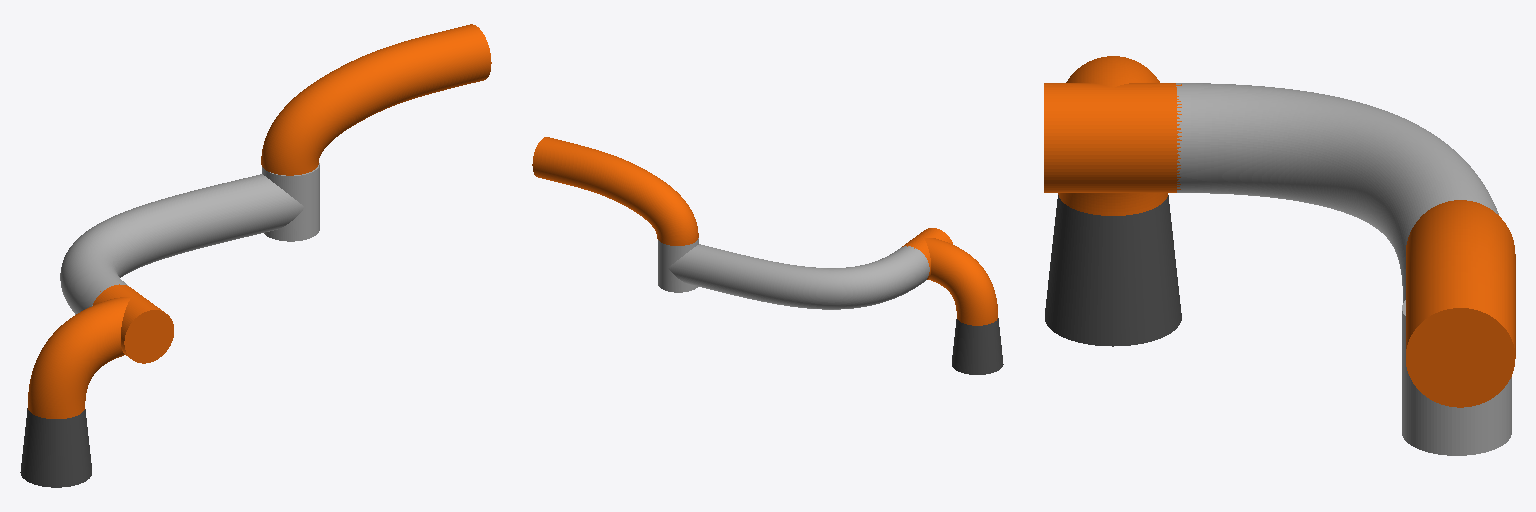
URDF robot description (custom_3r):
<?xml version="1.0" encoding="UTF-8"?>
<robot name="custom_3r">
  
  <!--
  Initial assembly generated from the supplied STL meshes and joint data.
  
  Assumption for this first version:
  - Each STL is expressed in its corresponding link frame.
  - Therefore visual/collision mesh origins are xyz="0 0 0", rpy="0 0 0".
  - The joint origins below are used exactly as supplied and are relative
  to their parent link frames, as required by URDF.
  
  Units:
  - STL geometry appears to be in metres.
  - URDF distances are metres and angles are radians.
  -->
  
  <material name="color_1">
  <color rgba="0.35 0.35 0.35 1.0"/>
  </material>
  <material name="color_2">
  <color rgba="0.95 0.45 0.08 1.0"/>
  </material>
  <material name="color_1">
  <color rgba="0.20 0.22 0.23 1.0"/>
  </material>
  
  <material name="color_2">
  <color rgba="0.05 0.42 0.43 1.0"/>
  </material>
  
  <material name="gray_white">
  <color rgba="0.7 0.7 0.7 1.0"/>
  </material>
  
  <link name="base_link">
  <visual>
  <origin xyz="0 0 0" rpy="0 0 0"/>
  <geometry>
  <mesh filename="package://custom_3r_description/meshes/base_link.stl"/>
  </geometry>
  <material name="color_1"/>
  </visual>
  <collision>
  <origin xyz="0 0 0" rpy="0 0 0"/>
  <geometry>
  <mesh filename="package://custom_3r_description/meshes/base_link.stl"/>
  </geometry>
  </collision>
  </link>
  
  <link name="link_1_600">
  <visual>
  <origin xyz="0 0 0" rpy="0 0 0"/>
  <geometry>
  <mesh filename="package://custom_3r_description/meshes/link_1_600.stl"/>
  </geometry>
  <material name="color_2"/>
  </visual>
  <collision>
  <origin xyz="0 0 0" rpy="0 0 0"/>
  <geometry>
  <mesh filename="package://custom_3r_description/meshes/link_1_600.stl"/>
  </geometry>
  </collision>
  </link>
  
  <joint name="joint_1" type="revolute">
  <parent link="base_link"/>
  <child link="link_1_600"/>
  <origin xyz="0 0 0.5" rpy="0 0 0"/>
  <axis xyz="0 0 1"/>
  <limit lower="-3.141592653589793" upper="3.141592653589793" effort="100" velocity="2.0"/>
  </joint>
  
  <link name="link_2">
  <visual>
  <origin xyz="0 0.25 0" rpy="0 0 -1.5707"/>
  <geometry>
  <mesh filename="package://custom_3r_description/meshes/link_2.stl" scale="1 1 1"/>
  </geometry>
  <material name="gray_white"/>
  </visual>
  <collision>
  <origin xyz="0 0 0" rpy="0 0 0"/>
  <geometry>
  <mesh filename="package://custom_3r_description/meshes/link_2.stl"/>
  </geometry>
  </collision>
  </link>
  
  <joint name="joint_2" type="revolute">
  <parent link="link_1_600"/>
  <child link="link_2"/>
  <origin xyz="0.6 0 0.5" rpy="0 0 0"/>
  <axis xyz="0 1 0"/>
  <limit lower="-3.141592653589793" upper="3.141592653589793" effort="100" velocity="2.0"/>
  </joint>
  
  <link name="link_3_d3">
  <visual>
  <origin xyz="0 0 0.25" rpy="0 0 0"/>
  <geometry>
  <mesh filename="package://custom_3r_description/meshes/link_3_d3.stl" scale="1 1 1"/>
  </geometry>
  <material name="color_2"/>
  </visual>
  <collision>
  <origin xyz="0 0 0" rpy="0 0 0"/>
  <geometry>
  <mesh filename="package://custom_3r_description/meshes/link_3_d3.stl"/>
  </geometry>
  </collision>
  </link>
  
  <joint name="joint_3" type="revolute">
  <parent link="link_2"/>
  <child link="link_3_d3"/>
  <origin xyz="2 1.25 0.0" rpy="0 0 0"/>
  <axis xyz="0 0 1"/>
  <limit lower="-3.141592653589793" upper="3.141592653589793" effort="100" velocity="2.0"/>
  </joint>
  
  <!-- Convenient fixed end-effector frame at link_3 origin for now.
  Move this origin later if the actual TCP is elsewhere. -->
  <link name="tool0"/>
  <joint name="tool0_fixed_joint" type="fixed">
  <parent link="link_3_d3"/>
  <child link="tool0"/>
  <origin xyz="1.5 0 0.75" rpy="0 0 0"/>
  </joint>
  
</robot>

--- Render facts (derived) ---
Views: 3 orthographic renders of the robot side by side, from view 1: azimuth 30°, elevation 25°; view 2: azimuth 150°, elevation 25°; view 3: azimuth 270°, elevation 25°.
Robot: custom_3r — 5 links, 4 joints (3 revolute, 1 fixed); root link base_link; default pose: all joints at 0.
Visible links, largest first — view 1: link_2, link_3_d3, link_1_600, base_link; view 2: link_2, link_3_d3, link_1_600, base_link; view 3: link_2, link_3_d3, link_1_600, base_link.
Link boxes in pixels (x1,y1,x2,y2): link_2: [60, 163, 319, 314]; link_3_d3: [261, 24, 491, 175]; link_1_600: [28, 284, 173, 418]; base_link: [20, 408, 91, 487]; link_2: [658, 238, 929, 309]; link_3_d3: [532, 137, 698, 245]; link_1_600: [902, 228, 997, 325]; base_link: [952, 318, 1003, 374]; link_2: [1176, 83, 1511, 455]; link_3_d3: [1406, 200, 1515, 407]; link_1_600: [1044, 56, 1181, 215]; base_link: [1045, 195, 1181, 346].
Bounding box of the posed robot: 4.35 × 1.71 × 1.95 m (x, y, z).
4 mesh visuals loaded from 4 distinct referenced files (4 binary STL).
